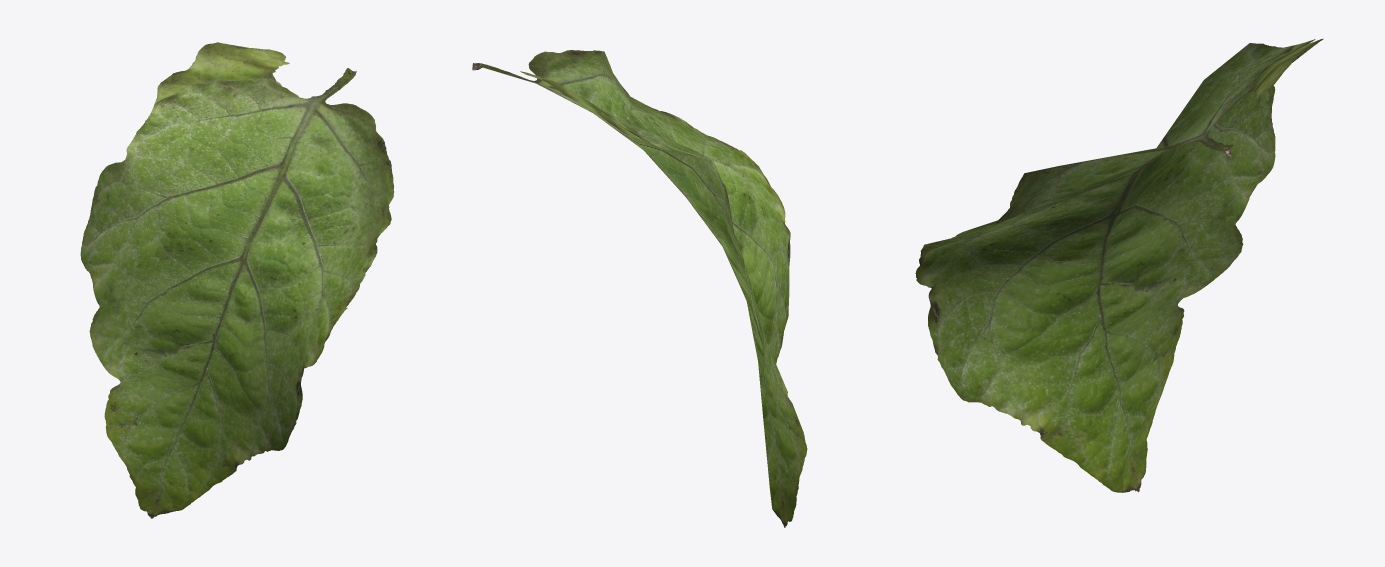
File: VG19_9_clip1leaf.obj
3 views of the same model, side by side, from view 1: azimuth 30°, elevation 25°; view 2: azimuth 150°, elevation 25°; view 3: azimuth 270°, elevation 25° (orthographic). The views are drawn at different scales.
Bounding box in the file's own units: 0.1546 × 0.176 × 0.137.
Materials: 2 (2 with a texture image).
